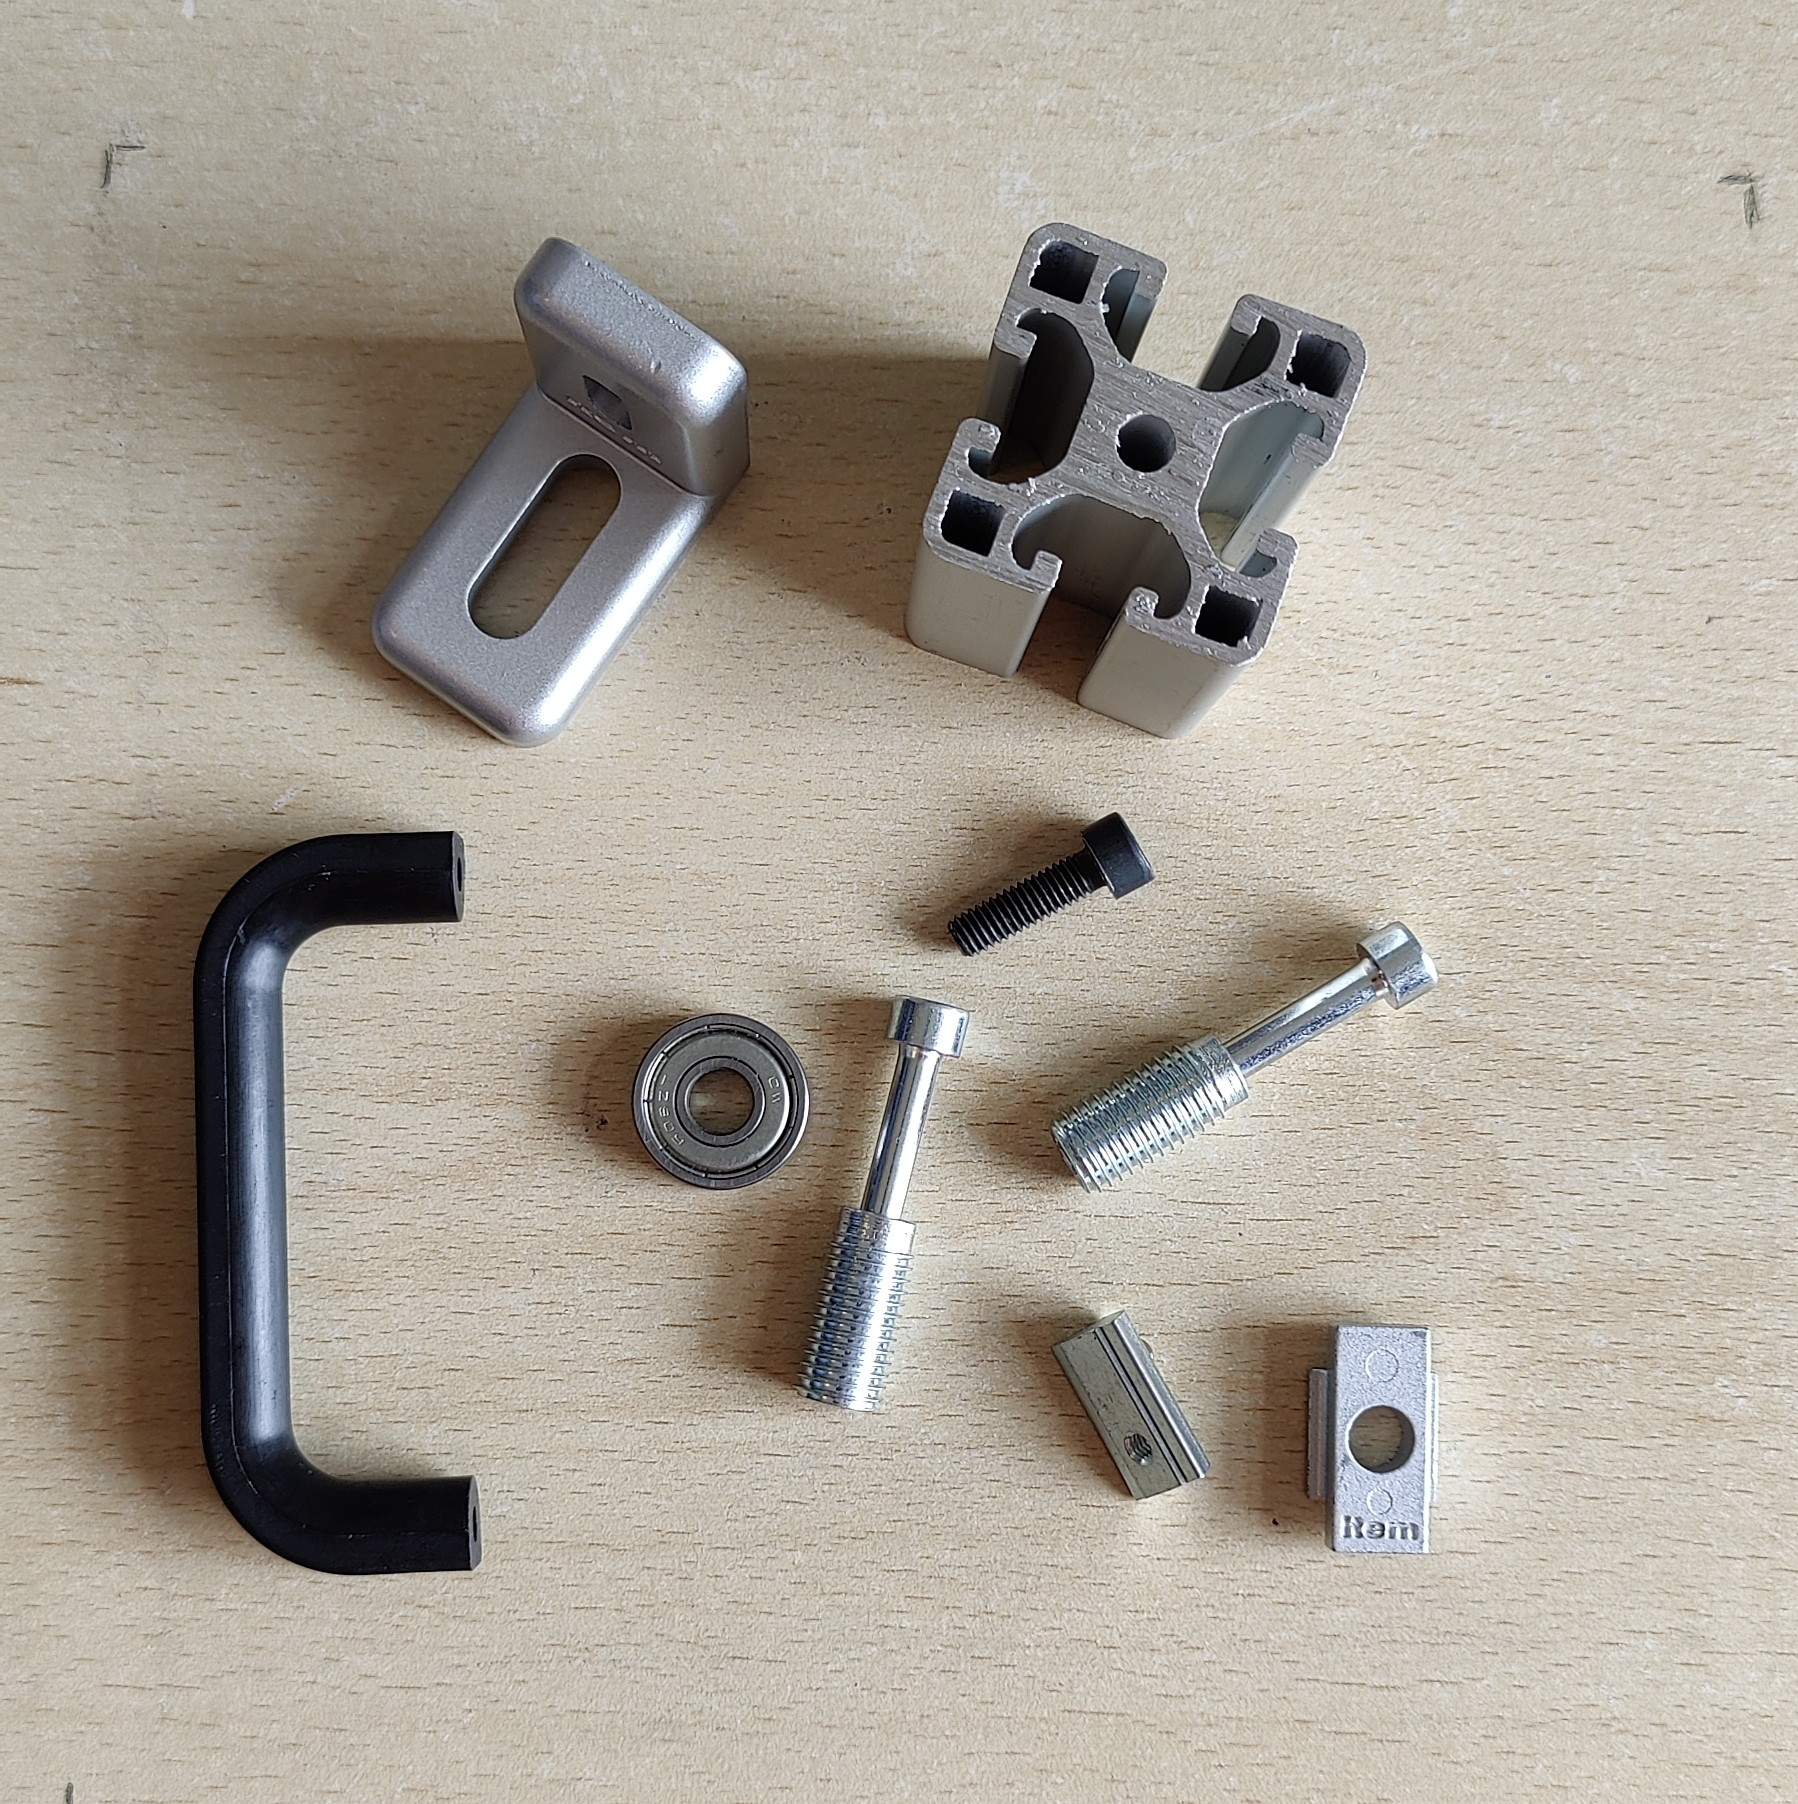Aluminium Extension: (901, 221, 1367, 742)
Ball Bearing: (627, 1011, 813, 1193)
Multiwinkel: (367, 234, 756, 751)
Pull Handle: (189, 826, 484, 1578)
Shoulder Socket Head Cap Screw: (1046, 918, 1441, 1197), (790, 993, 971, 1417)
Socket Head Cap Screw: (943, 811, 1159, 960)
T Nut Square: (1301, 1318, 1442, 1557)
T Spring Nut: (1047, 1309, 1213, 1504)
